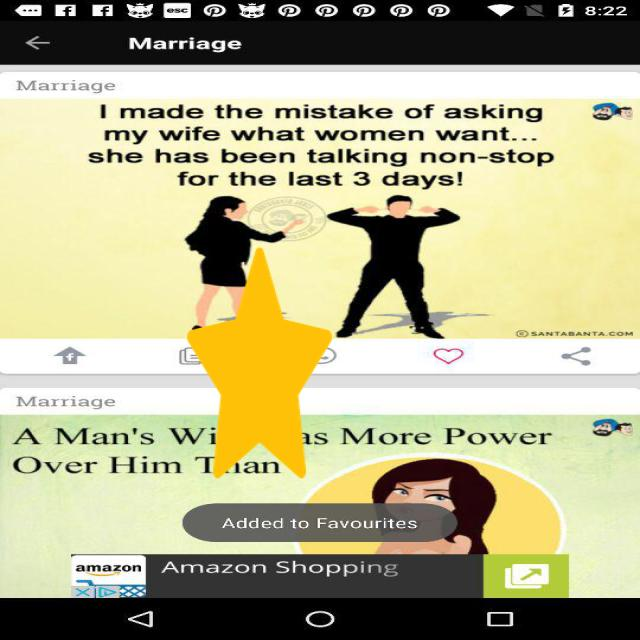forced continuity: (187, 247, 332, 479)
